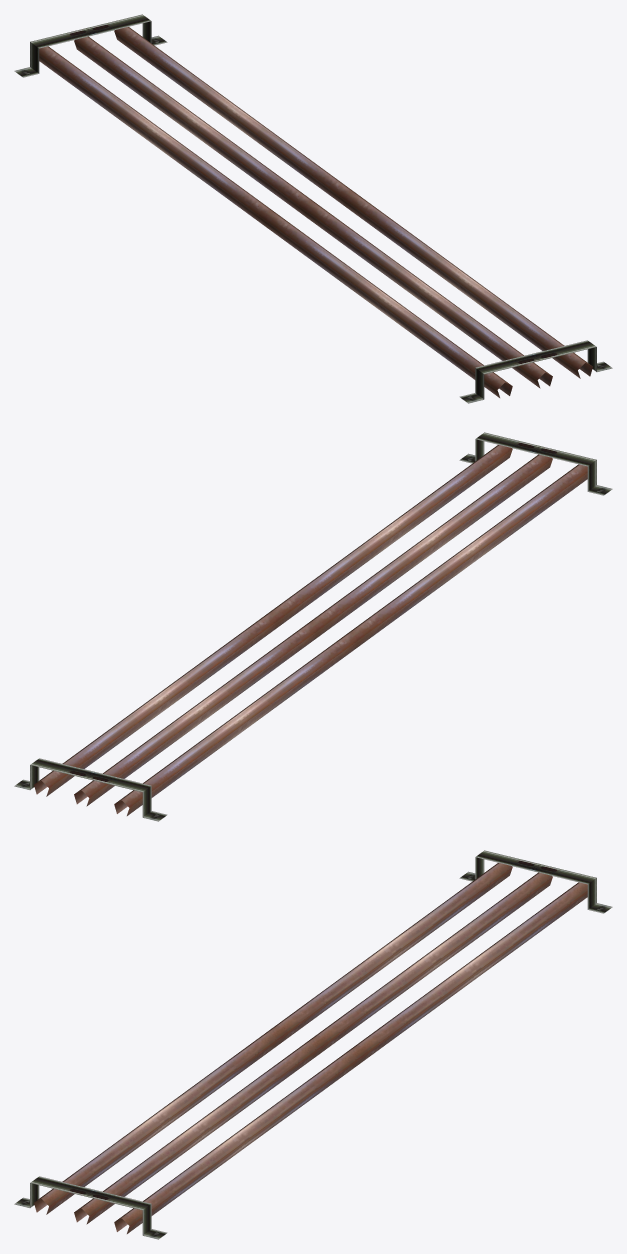
The model's file is ceiling_pipe_span.fbx.
3 renders of one model, top to bottom at view 1: azimuth 30°, elevation 25°; view 2: azimuth 150°, elevation 25°; view 3: azimuth 330°, elevation 25°, orthographic.
Parts seen in each view (by area): view 1: mesh_0; view 2: mesh_0; view 3: mesh_0.
Part boxes in pixels (left/top/right/bottom): mesh_0: left=14, top=14, right=612, bottom=403; mesh_0: left=14, top=432, right=612, bottom=821; mesh_0: left=14, top=850, right=612, bottom=1239.
Size of the model in its own units: 36 by 6 by 200.
1 material, 1 textured.
